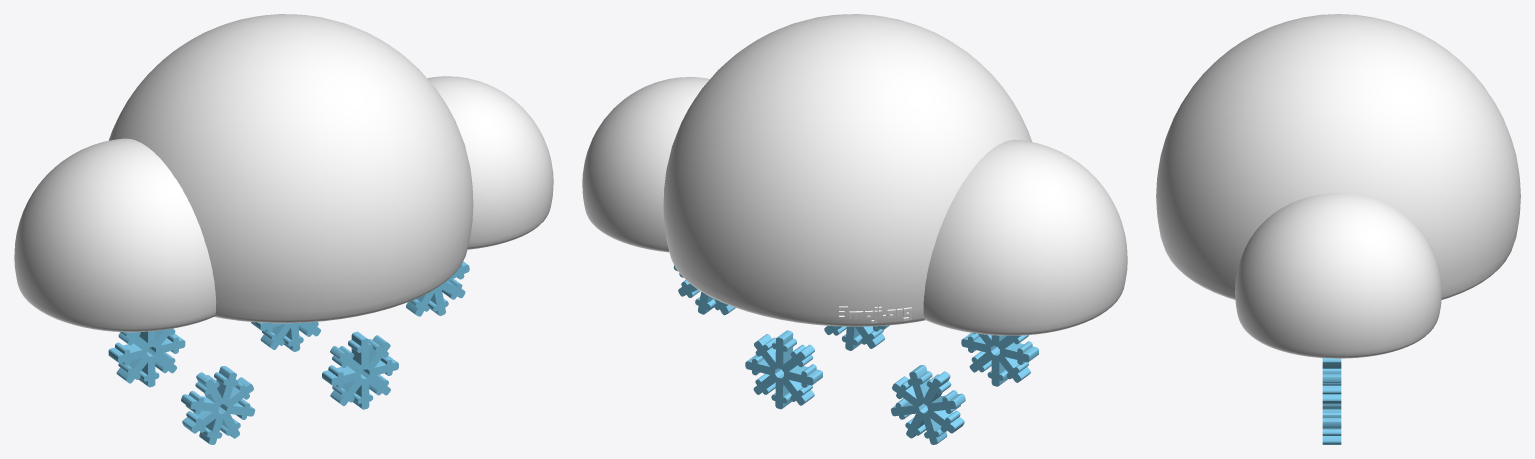
The model's file is cloud_with_snow.fbx.
3 views of the same model, side by side, from view 1: azimuth 30°, elevation 25°; view 2: azimuth 150°, elevation 25°; view 3: azimuth 270°, elevation 25° (orthographic). The views are drawn at different scales.
Visible parts, largest first — view 1: Cube.209; view 2: Cube.209; view 3: Cube.209.
Part boxes in pixels (bbox=[...]): Cube.209: bbox=[14, 14, 553, 444]; Cube.209: bbox=[582, 14, 1127, 444]; Cube.209: bbox=[1156, 14, 1520, 444].
Bounding box in the file's own units: 215 × 157 × 137.
1 material, 1 textured.
